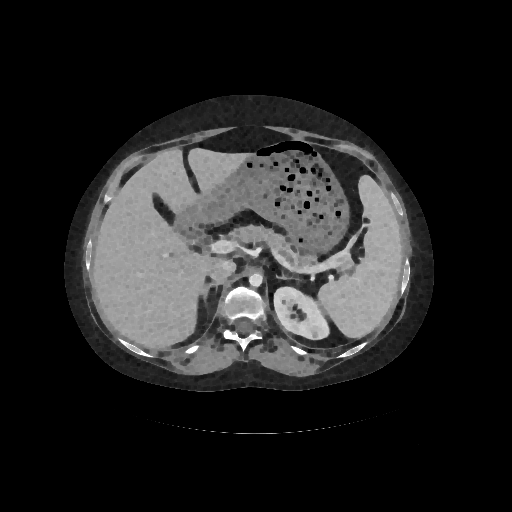Lesion: (310, 329, 318, 339)
